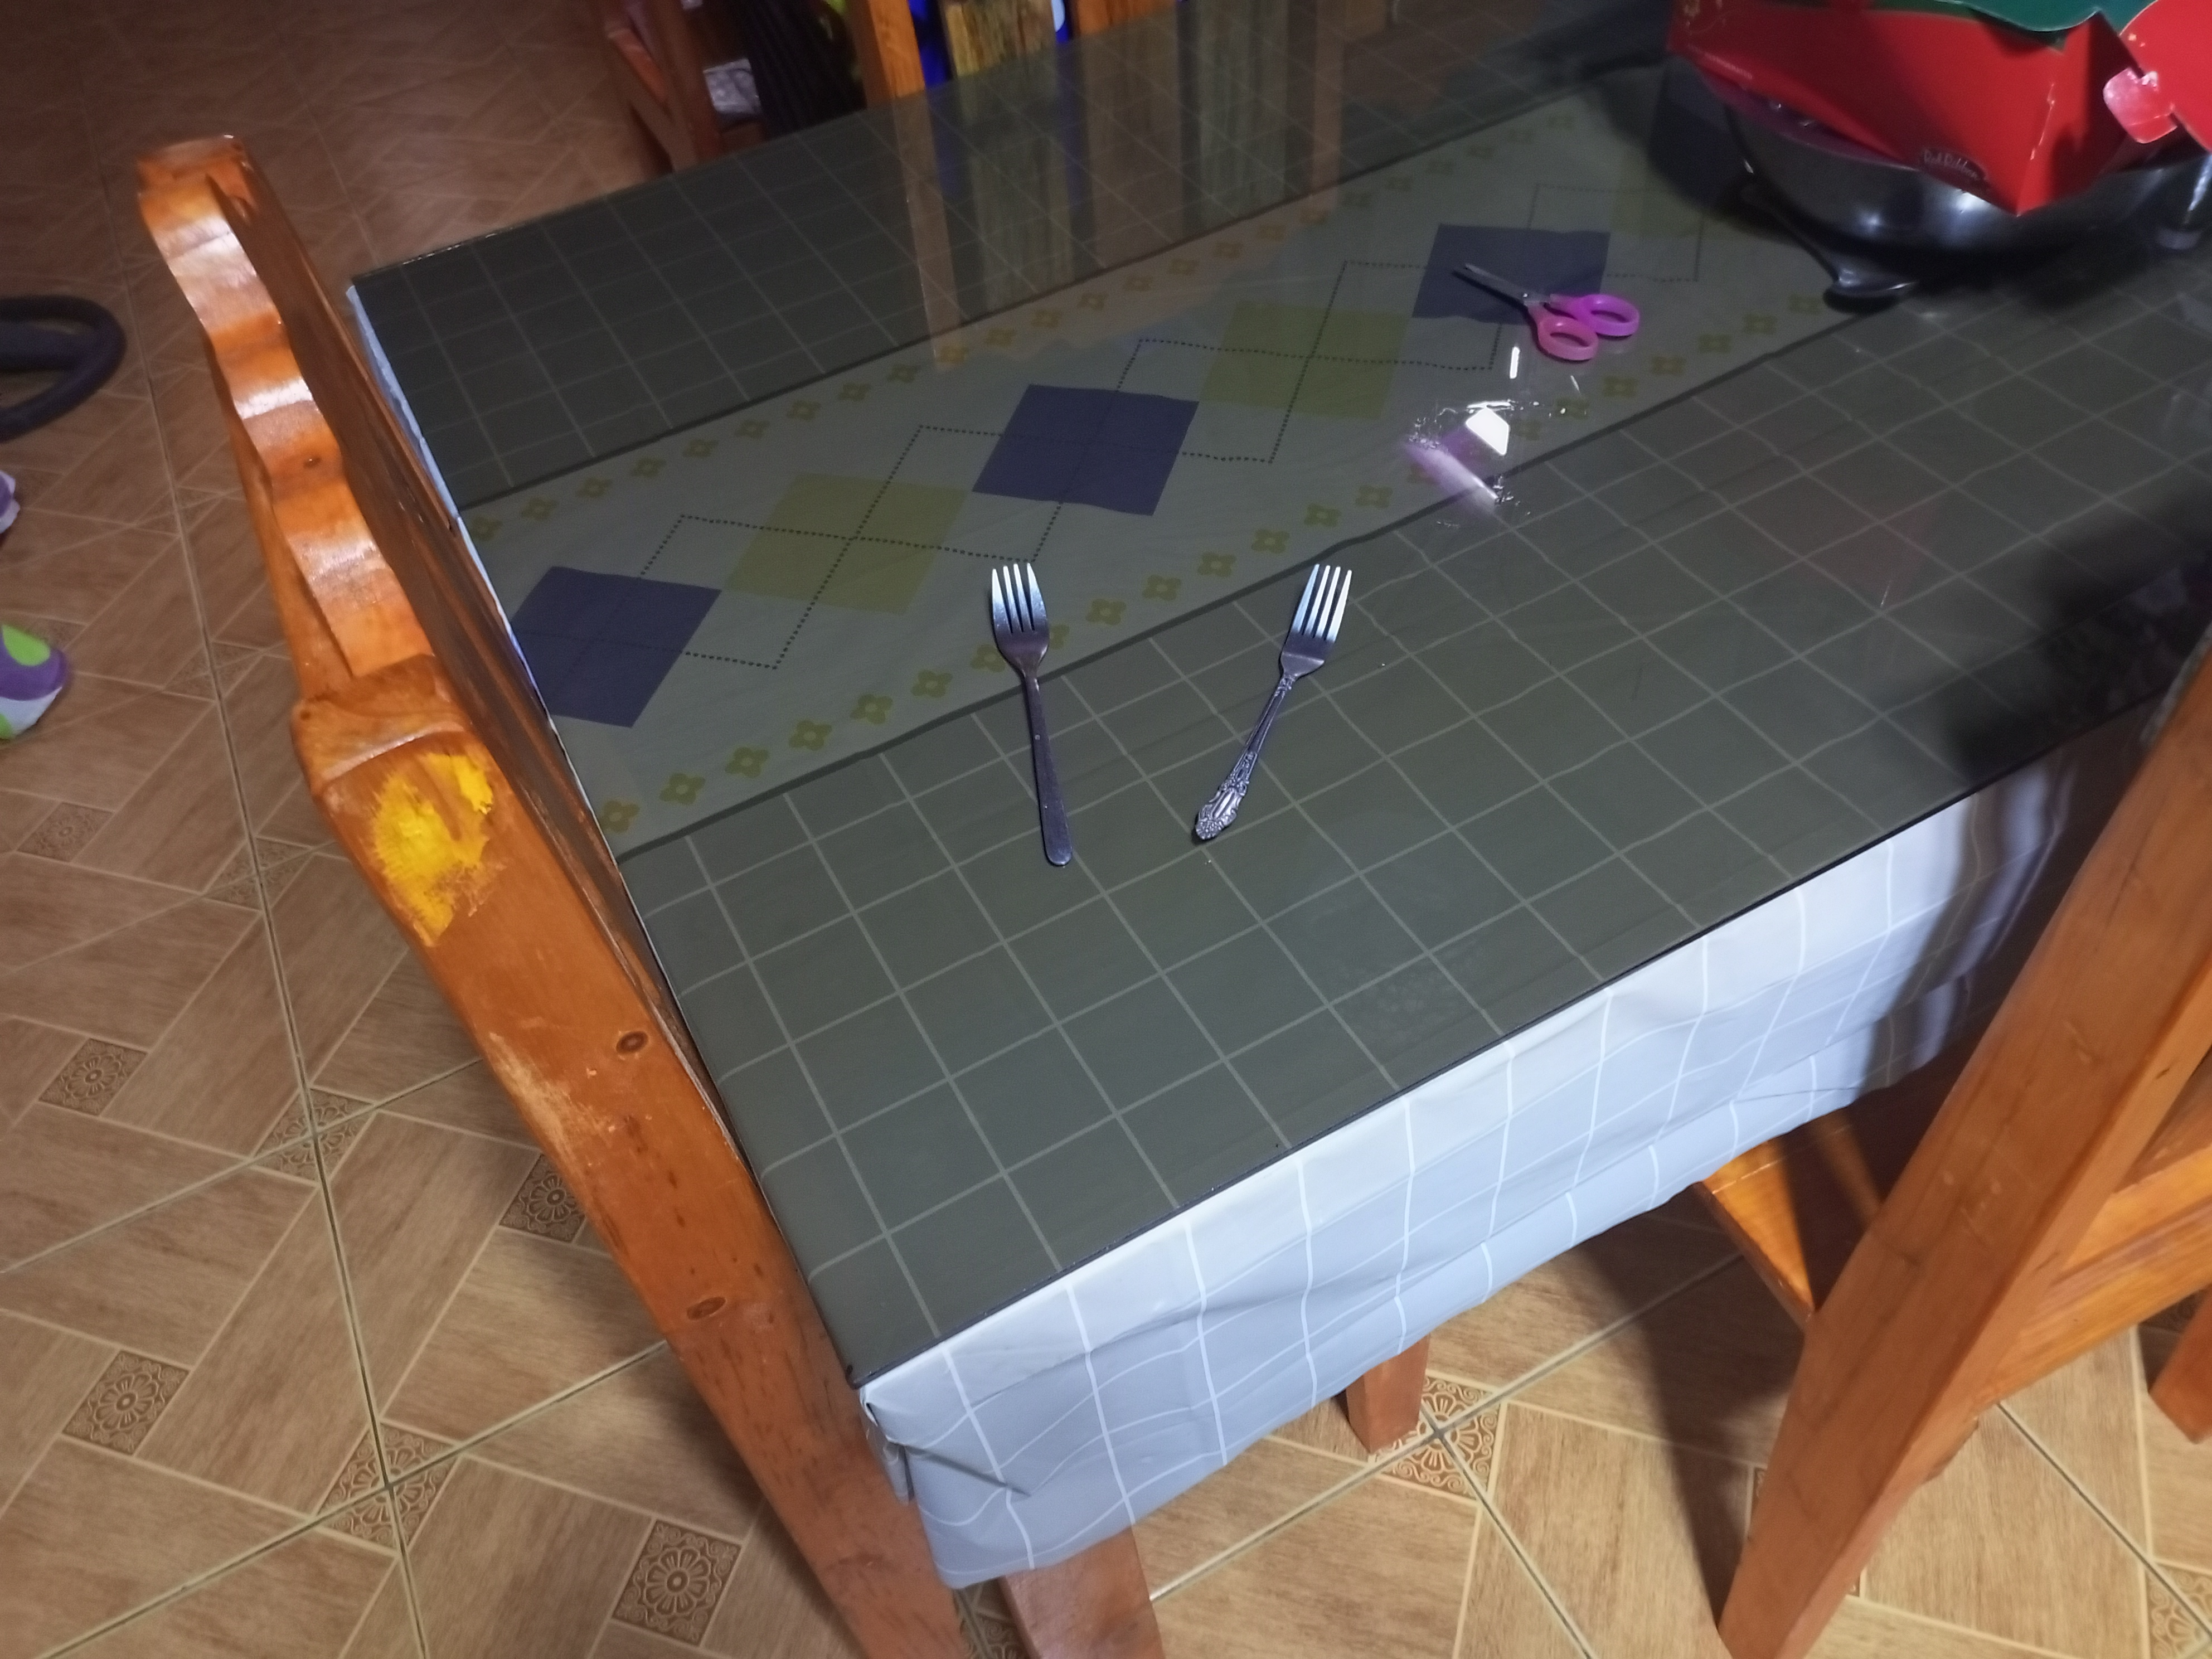fork: (1191, 559, 1353, 843), (993, 552, 1080, 870)
